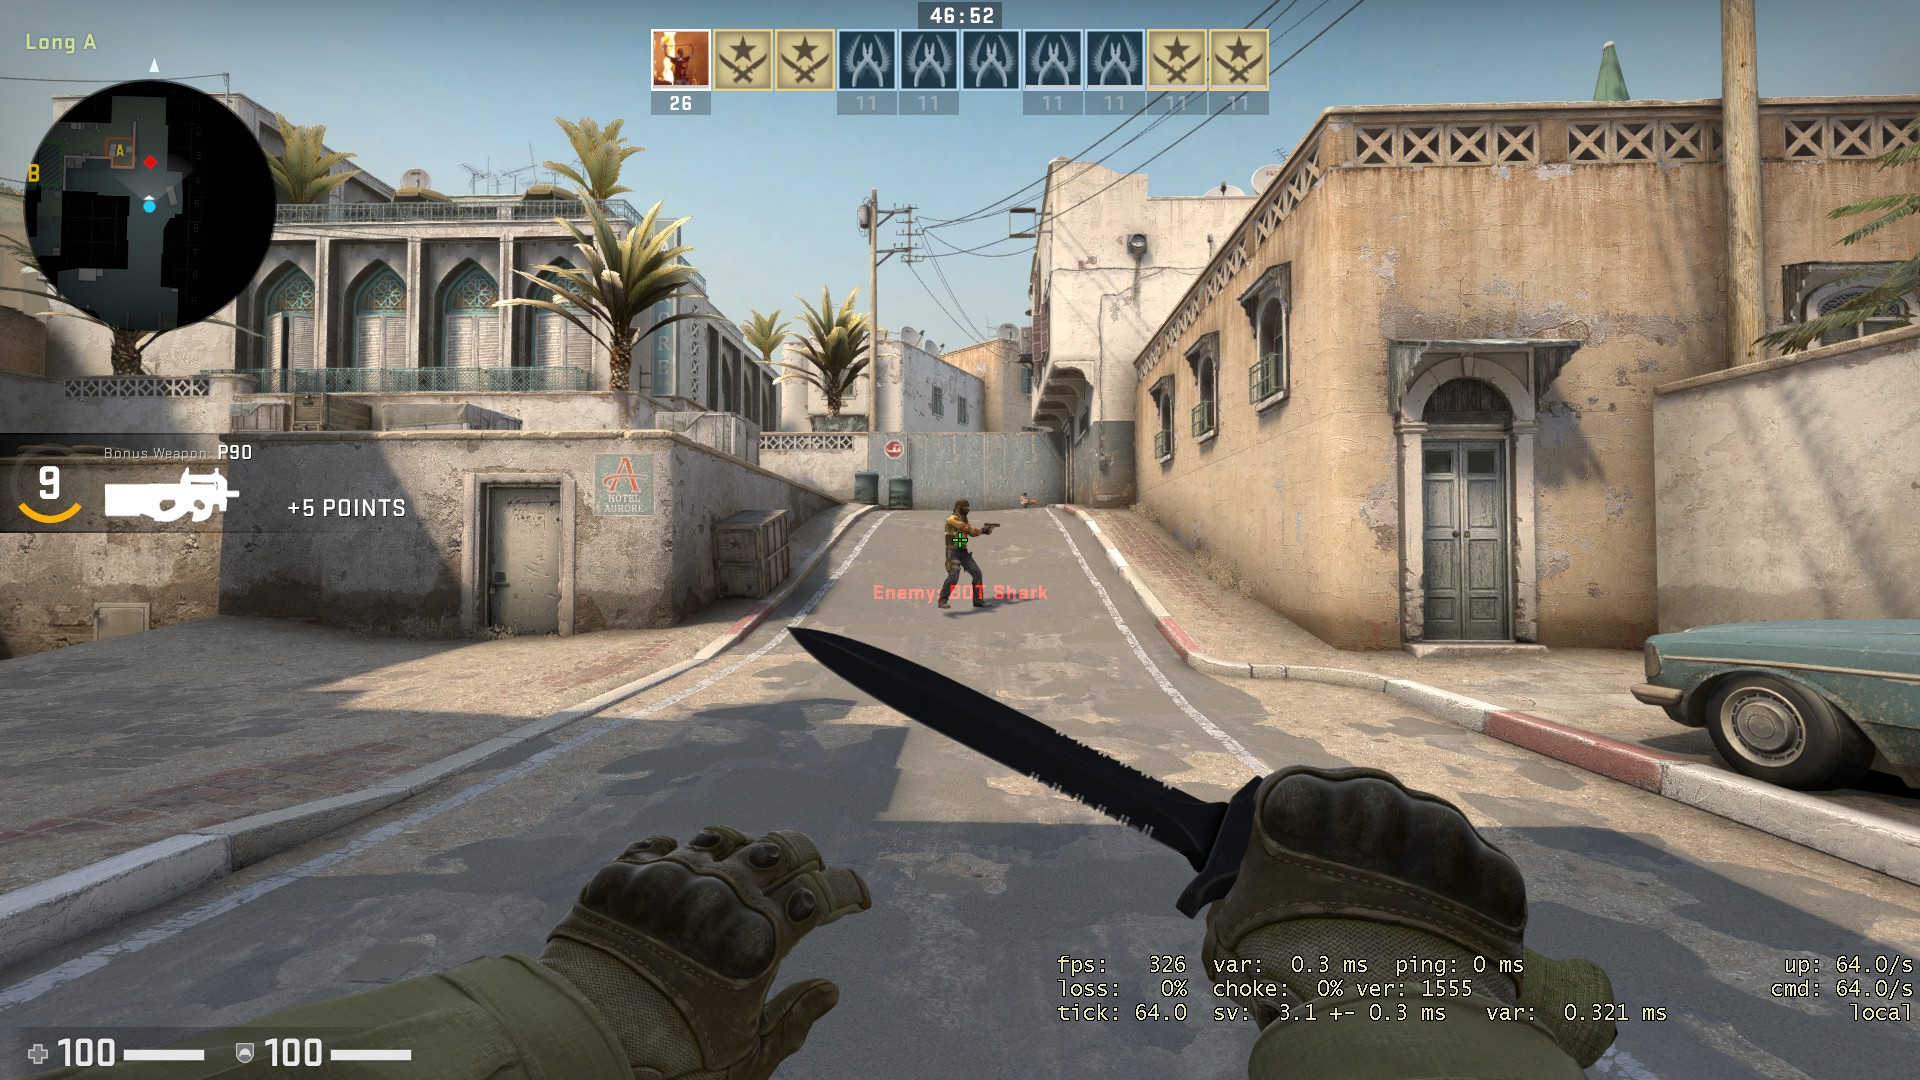player: (935, 495, 1003, 616)
